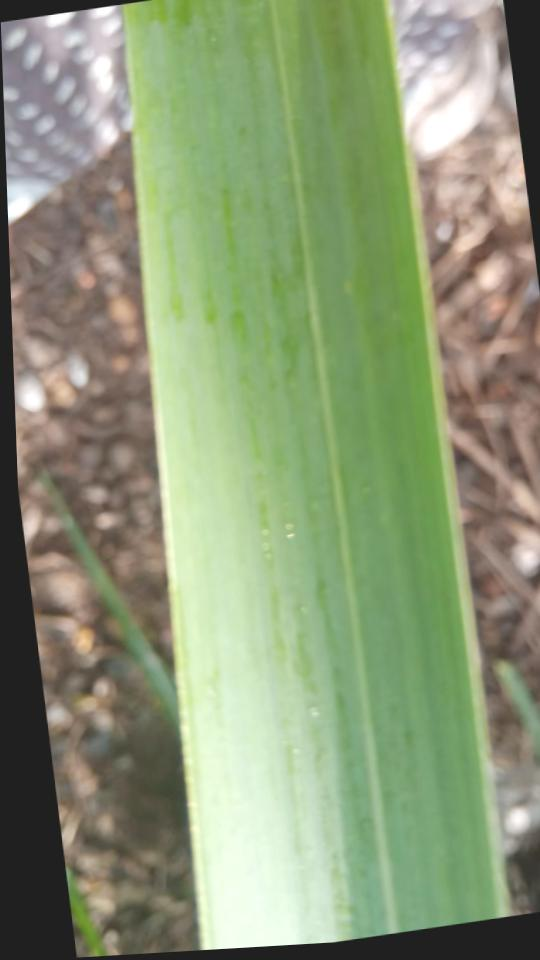Healthy: (122, 0, 508, 950)
